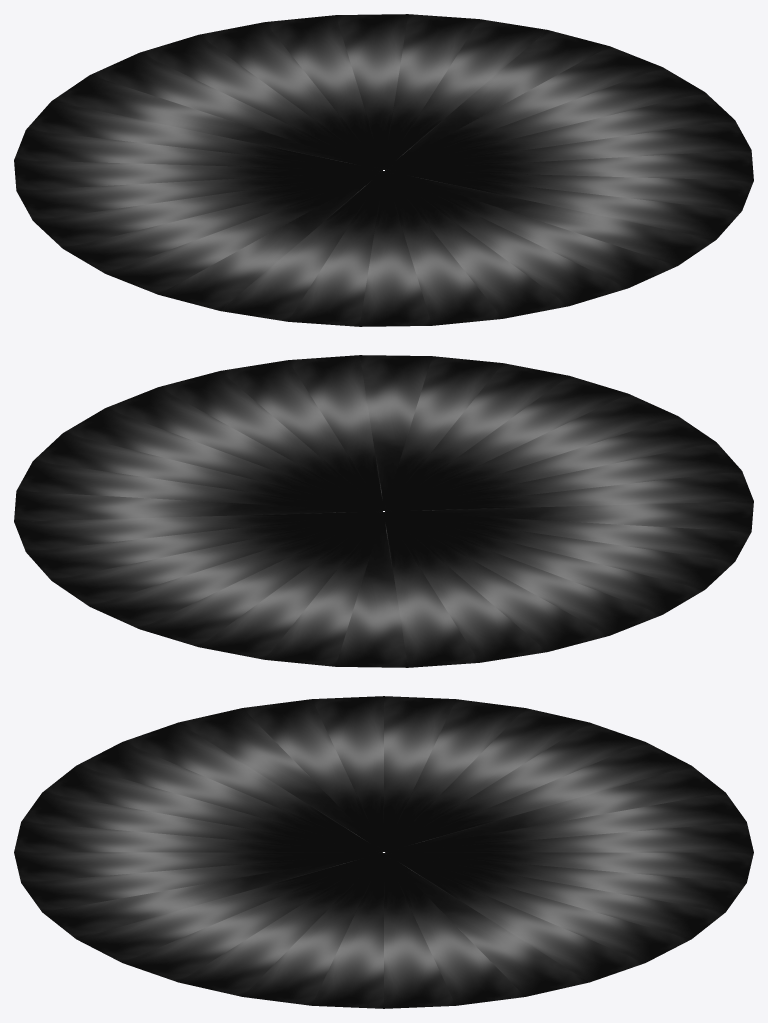
The model's file is effect.obj.
The picture shows the model from 3 angles, top to bottom: view 1: azimuth 30°, elevation 25°; view 2: azimuth 150°, elevation 25°; view 3: azimuth 270°, elevation 25°; orthographic projection.
Visible parts, largest first — view 1: Circle.001; view 2: Circle.001; view 3: Circle.001.
Part boxes in pixels (box(x1,y1,x2,y2)): Circle.001: box(14, 14, 753, 326); Circle.001: box(14, 355, 753, 667); Circle.001: box(14, 696, 753, 1008).
Bounding box in the file's own units: 2 × 0 × 2.
Materials: 1 (1 with a texture image).
